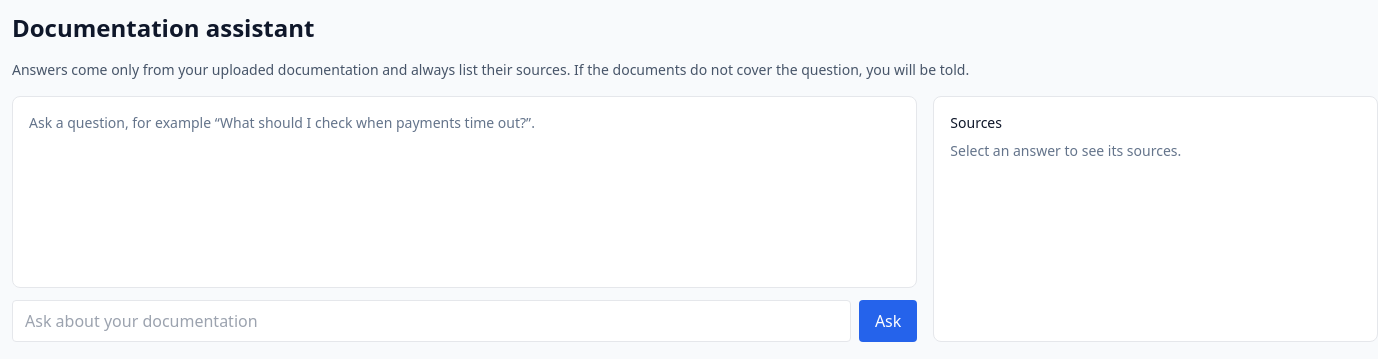
Test case: AssistantPage › shows an error when the request fails
In the field named "Question": (431, 321) [12,300,851,342], type "anything"
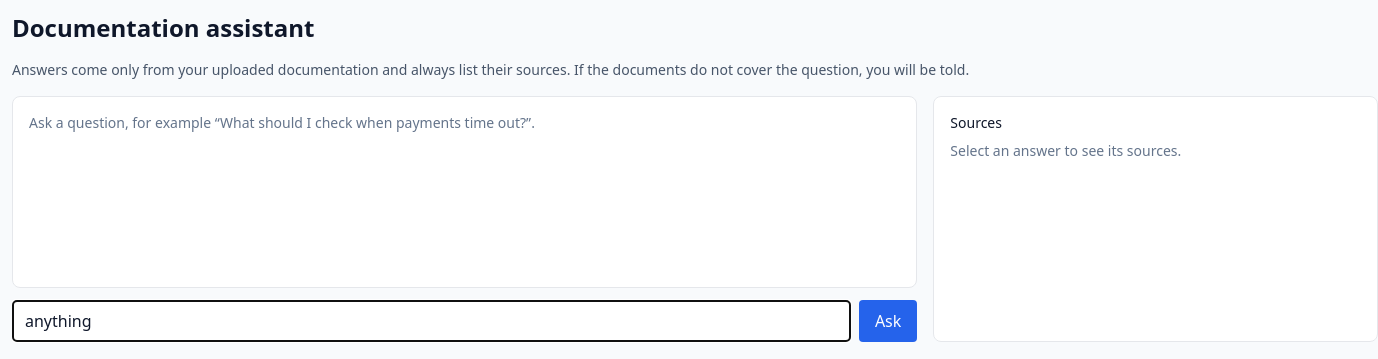
Click the button "Ask": (888, 321) [859,300,917,342]
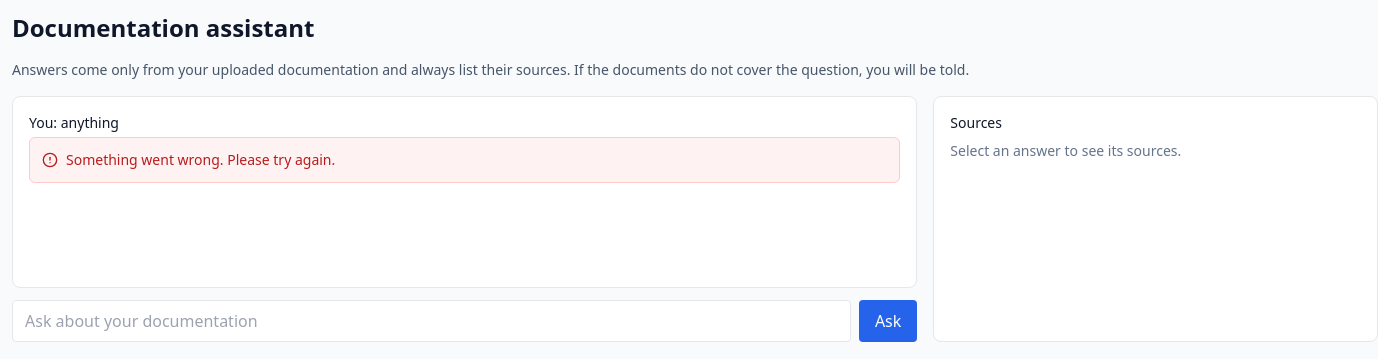
Check: the message "Something went wrong. Please try again." is shown, box [29,137,900,183]
